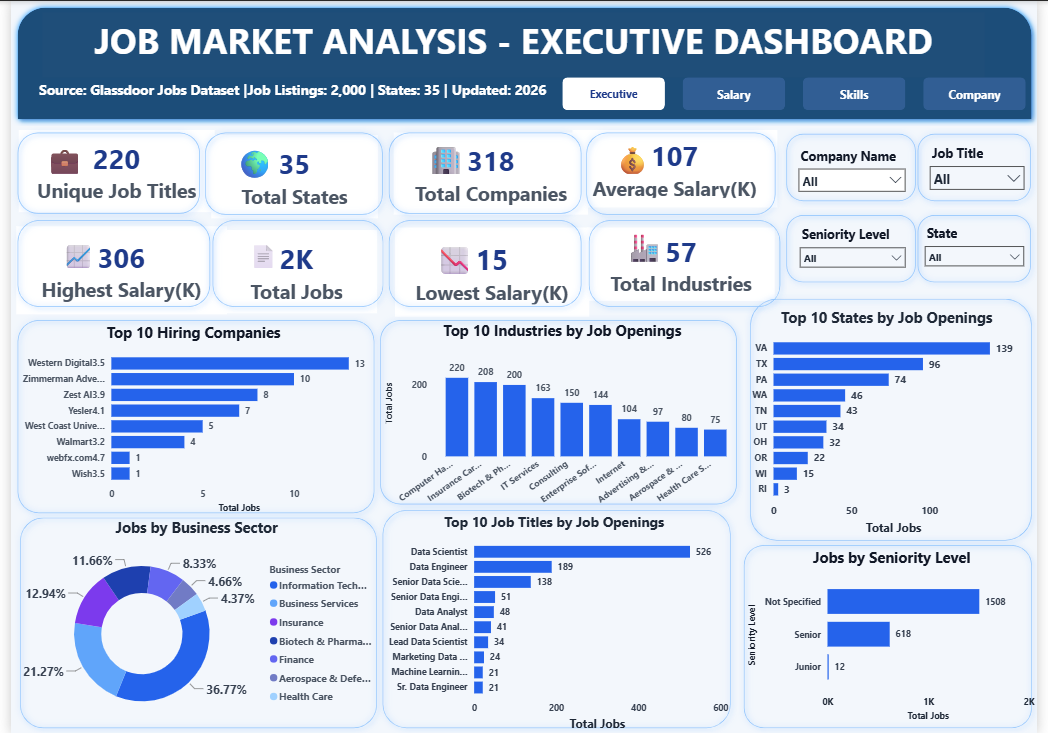

What the dashboard file says about the page in this screenshot:
{"tool":"powerbi","page":{"name":"Executive ","canvas":[1400,1000],"ordinal":0},"visuals":[{"type":"cardVisual","fields":{"Data":["Measures (2).Total Job Titles"]},"box":[3.4,168.7,281.2,126.1],"z":0},{"type":"cardVisual","fields":{"Data":["Measures (2).Total Jobs"]},"box":[272.8,305.7,233.6,128.6],"z":1000},{"type":"cardVisual","fields":{"Data":["Measures (2).Total Companies"]},"box":[514.2,172.5,279.1,127],"z":2000},{"type":"cardVisual","fields":{"Data":["Measures (2).Total Industries"]},"box":[779.2,301,269.7,114.5],"z":3000},{"type":"cardVisual","fields":{"Data":["Measures (2).Average Salary(K)"]},"box":[758.8,169.3,293.2,120.7],"z":4000},{"type":"cardVisual","fields":{"Data":["Measures (2).Highest Salary(K)"]},"box":[0,299.4,301.1,134.9],"z":5000},{"type":"cardVisual","fields":{"Data":["Measures (2).Lowest Salary(K)"]},"box":[515.8,301,279.1,136.4],"z":6000},{"type":"cardVisual","fields":{"Data":["Measures (2).Total States"]},"box":[266.5,175.6,241.4,128.6],"z":7000},{"type":"shape","box":[0,170.9,266.5,128.6],"z":8000},{"type":"shape","box":[255.6,170.9,260.3,130.1],"z":9000},{"type":"shape","box":[776.1,170.9,275.9,130.1],"z":10000},{"type":"shape","box":[506.4,170.9,280.6,128.6],"z":11000},{"type":"shape","box":[0,290,280.6,136.4],"z":12000},{"type":"shape","box":[506.4,290,280.6,136.4],"z":13000},{"type":"shape","box":[266.5,290,250.9,136.4],"z":14000},{"type":"shape","box":[779.2,290,279.1,136.4],"z":15000},{"type":"shape","box":[998.6,397.1,402.2,347.7],"z":16000},{"type":"shape","box":[494.2,426,504.4,269.3],"z":17000},{"type":"shape","box":[990.1,732.8,410.7,267.6],"z":18000},{"type":"shape","box":[0,426,504.4,281.2],"z":19000},{"type":"clusteredBarChart","title":"Top 10 Hiring Companies","fields":{"Category":["Job_Market_Analysis.Company Name"],"Y":["Measures (2).Total Jobs"]},"box":[0,438,497.6,265.9],"z":20000},{"type":"shape","box":[497.6,685.1,492.5,315.3],"z":21000},{"type":"shape","box":[3.4,695.3,504.4,305],"z":22000},{"type":"shape","box":[1047.3,172.5,194.4,109.7],"z":23000},{"type":"shape","box":[1227.6,172.5,172.5,109.7],"z":24000},{"type":"shape","box":[1047.3,282.2,194.4,109.7],"z":25000},{"type":"shape","box":[1227.6,282.2,172.5,109.7],"z":26000},{"type":"shape","box":[0,0,1400.3,170.2],"z":27000},{"type":"textbox","box":[42.6,15.3,1284.9,88.6],"z":28000},{"type":"slicer","fields":{"Values":["Job_Market_Analysis.State"]},"box":[1235.5,299.5,155.2,65.8],"z":29000},{"type":"slicer","fields":{"Values":["Job_Market_Analysis.Seniority Level"]},"box":[1064.6,301,164.6,65.8],"z":30000},{"type":"slicer","fields":{"Values":["Job_Market_Analysis.Job Title"]},"box":[1241.7,191.3,148.9,83.1],"z":31000},{"type":"slicer","fields":{"Values":["Job_Market_Analysis.Company Name"]},"box":[1063,194.4,166.2,75.3],"z":32000},{"type":"clusteredBarChart","title":"Top 10 States by Job Openings","fields":{"Category":["Job_Market_Analysis.State"],"Y":["Measures (2).Total Jobs"]},"box":[1003.8,417.5,380,315.3],"z":33000},{"type":"clusteredColumnChart","title":"Top 10 Industries by Job Openings","fields":{"Category":["Job_Market_Analysis.Industry"],"Y":["Measures (2).Total Jobs"]},"box":[506.1,434.6,490.8,262.4],"z":34000},{"type":"donutChart","title":"Jobs by Business Sector","fields":{"Category":["Job_Market_Analysis.Business Sector"],"Y":["Measures (2).Total Jobs"]},"box":[0,703.8,506.1,291.4],"z":35000},{"type":"clusteredBarChart","title":"Jobs by Seniority Level","fields":{"Category":["Job_Market_Analysis.Seniority Level"],"Y":["Measures (2).Total Jobs"]},"box":[1000.3,744.7,400.5,242],"z":36000},{"type":"clusteredBarChart","title":"Top 10 Job Titles by Job Openings","fields":{"Category":["Job_Market_Analysis.Job Title"],"Y":["Measures (2).Total Jobs"]},"box":[497.6,697,485.7,303.3],"z":37000},{"type":"pageNavigator","box":[752,103.7,632.1,45.4],"z":38000},{"type":"textbox","box":[29.2,103.7,709.9,45.4],"z":39000},{"type":"textbox","box":[301,178.7,192.8,103.5],"z":40000},{"type":"textbox","box":[42.3,185,138,94.1],"z":41000},{"type":"textbox","box":[562.9,185,189.7,78.4],"z":42000},{"type":"textbox","box":[316.7,319.8,94.1,103.5],"z":43000},{"type":"textbox","box":[64.2,320.8,167.8,103.6],"z":44000},{"type":"textbox","box":[816.8,185,161.5,69],"z":45000},{"type":"textbox","box":[573.8,321.4,166.2,89.4],"z":46000},{"type":"textbox","box":[832.5,305.7,188.1,92.5],"z":47000}]}

Visuals, with their boxes in screenshot pixels (x1, y1, x2, y2), scaled from the page's 1400x1000 canvas onto the 1048x733 screenshot:
cardVisual - Measures (2).Total Job Titles: (3, 124, 213, 216)
cardVisual - Measures (2).Total Jobs: (204, 224, 379, 318)
cardVisual - Measures (2).Total Companies: (385, 126, 594, 220)
cardVisual - Measures (2).Total Industries: (583, 221, 785, 305)
cardVisual - Measures (2).Average Salary(K): (568, 124, 787, 213)
cardVisual - Measures (2).Highest Salary(K): (0, 219, 225, 318)
cardVisual - Measures (2).Lowest Salary(K): (386, 221, 595, 321)
cardVisual - Measures (2).Total States: (199, 129, 380, 223)
shape: (0, 125, 199, 220)
shape: (191, 125, 386, 221)
shape: (581, 125, 787, 221)
shape: (379, 125, 589, 220)
shape: (0, 213, 210, 313)
shape: (379, 213, 589, 313)
shape: (199, 213, 387, 313)
shape: (583, 213, 792, 313)
shape: (748, 291, 1047, 546)
shape: (370, 312, 748, 510)
shape: (741, 537, 1047, 732)
shape: (0, 312, 378, 518)
"Top 10 Hiring Companies" clusteredBarChart: (0, 321, 372, 516)
shape: (372, 502, 741, 732)
shape: (3, 510, 380, 732)
shape: (784, 126, 930, 207)
shape: (919, 126, 1047, 207)
shape: (784, 207, 930, 287)
shape: (919, 207, 1047, 287)
shape: (0, 0, 1047, 125)
textbox: (32, 11, 994, 76)
slicer - Job_Market_Analysis.State: (925, 220, 1041, 268)
slicer - Job_Market_Analysis.Seniority Level: (797, 221, 920, 269)
slicer - Job_Market_Analysis.Job Title: (930, 140, 1041, 201)
slicer - Job_Market_Analysis.Company Name: (796, 142, 920, 198)
"Top 10 States by Job Openings" clusteredBarChart: (751, 306, 1036, 537)
"Top 10 Industries by Job Openings" clusteredColumnChart: (379, 319, 746, 511)
"Jobs by Business Sector" donutChart: (0, 516, 379, 729)
"Jobs by Seniority Level" clusteredBarChart: (749, 546, 1047, 723)
"Top 10 Job Titles by Job Openings" clusteredBarChart: (372, 511, 736, 732)
pageNavigator: (563, 76, 1036, 109)
textbox: (22, 76, 553, 109)
textbox: (225, 131, 370, 207)
textbox: (32, 136, 135, 205)
textbox: (421, 136, 563, 193)
textbox: (237, 234, 308, 310)
textbox: (48, 235, 174, 311)
textbox: (611, 136, 732, 186)
textbox: (430, 236, 554, 301)
textbox: (623, 224, 764, 292)
